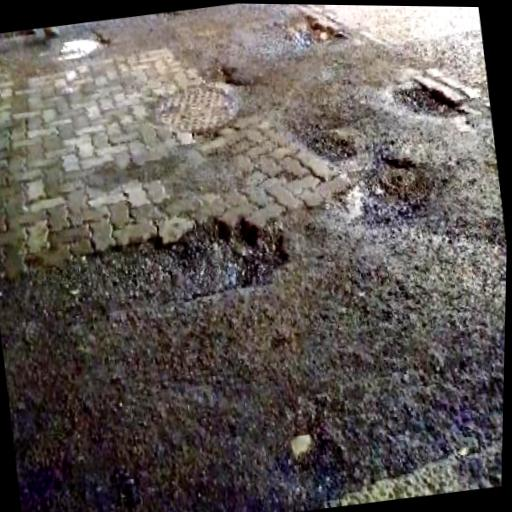pothole: (64, 200, 295, 321), (331, 146, 441, 234), (389, 74, 468, 126), (276, 4, 349, 55), (54, 25, 111, 65), (304, 125, 356, 165)
